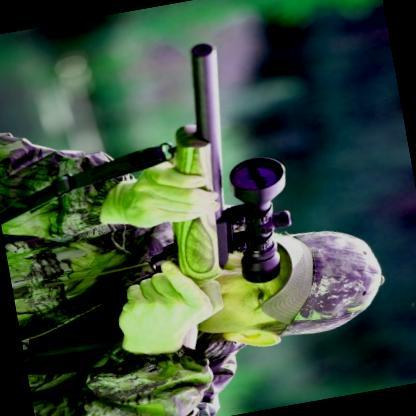rifle: (84, 31, 315, 320)
